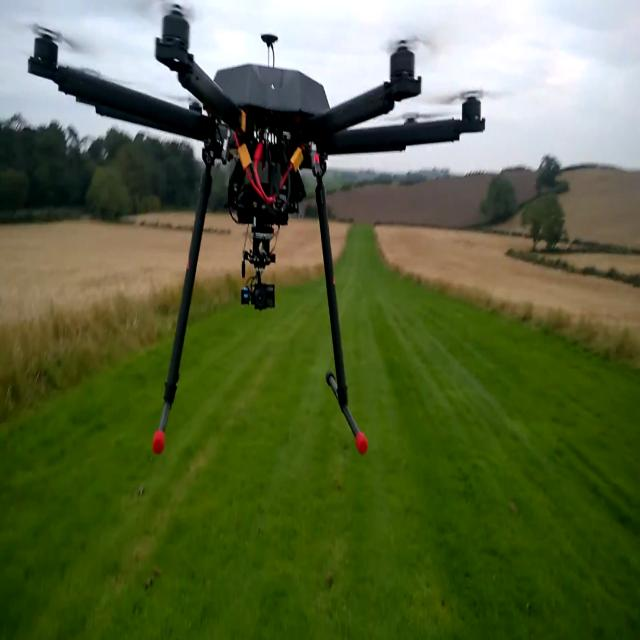drone: (16, 0, 487, 472)
